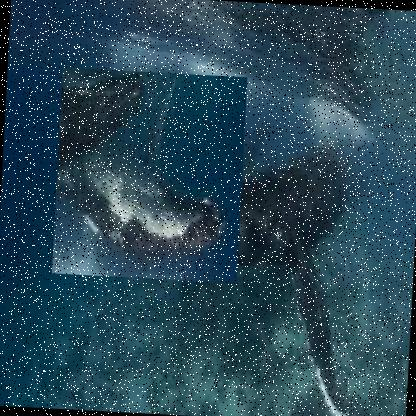blue_whale: (145, 125, 365, 415), (50, 67, 247, 284)
